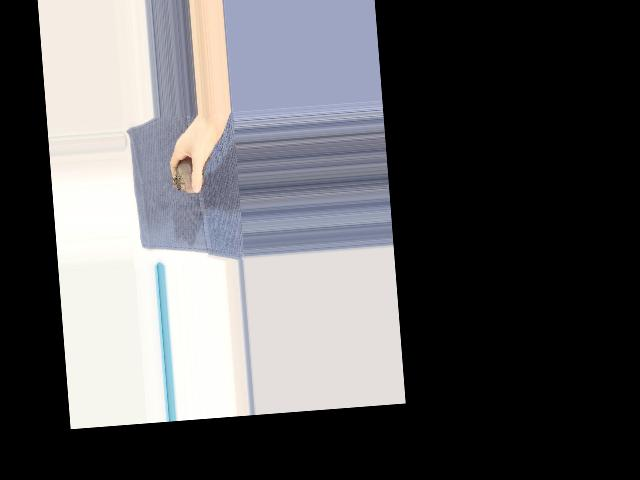beet: (171, 155, 217, 195)
